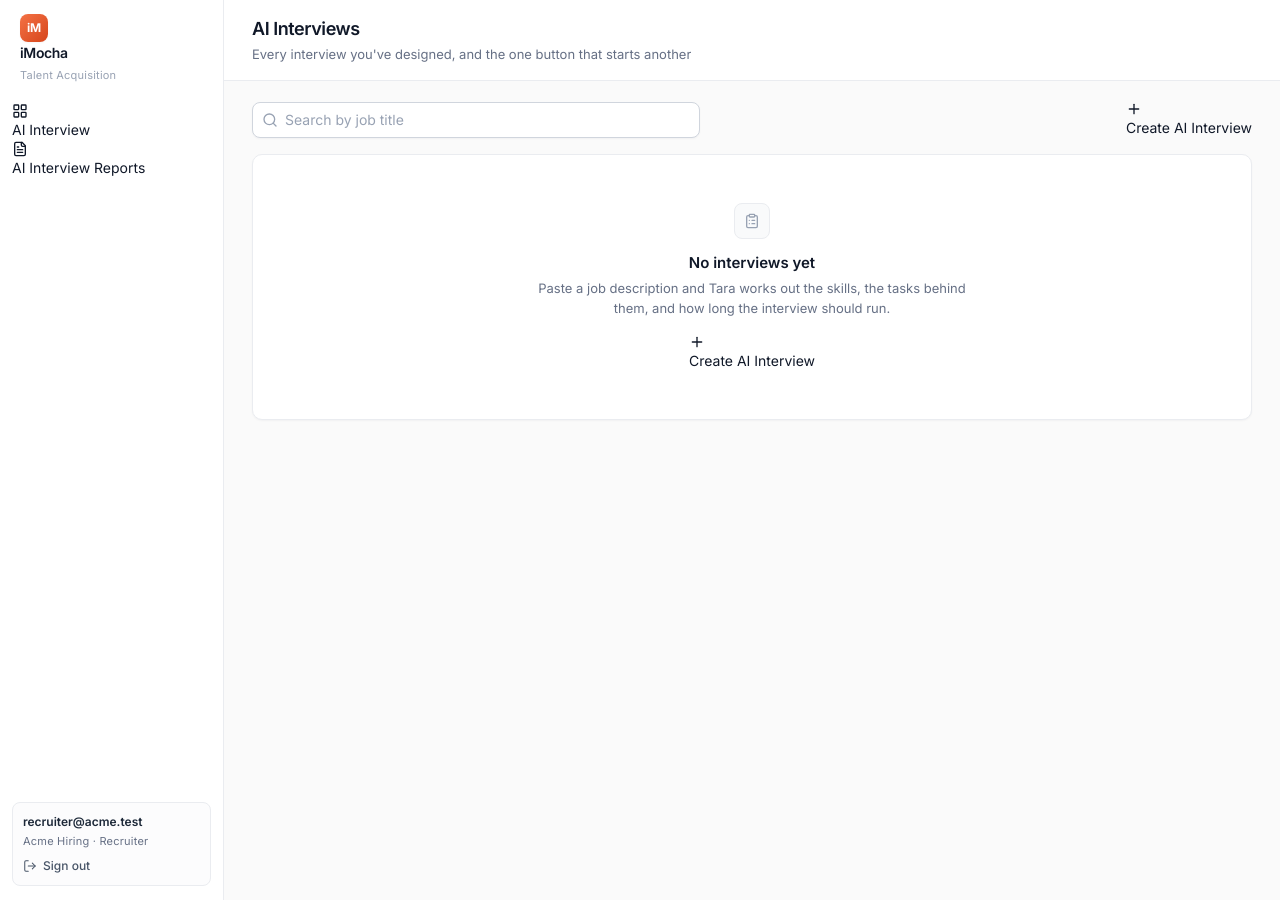
Test: the console's session gate › signs out through the server, not by forgetting locally
This screenshot has width=1280, height=900.
Expected: the text "recruiter@acme.test" is shown, [23, 814, 142, 829]
What coordinates should you click on to do the following:
click the button "Sign out"
I would click on:
 (57, 866)
Its box is [23, 857, 90, 875].
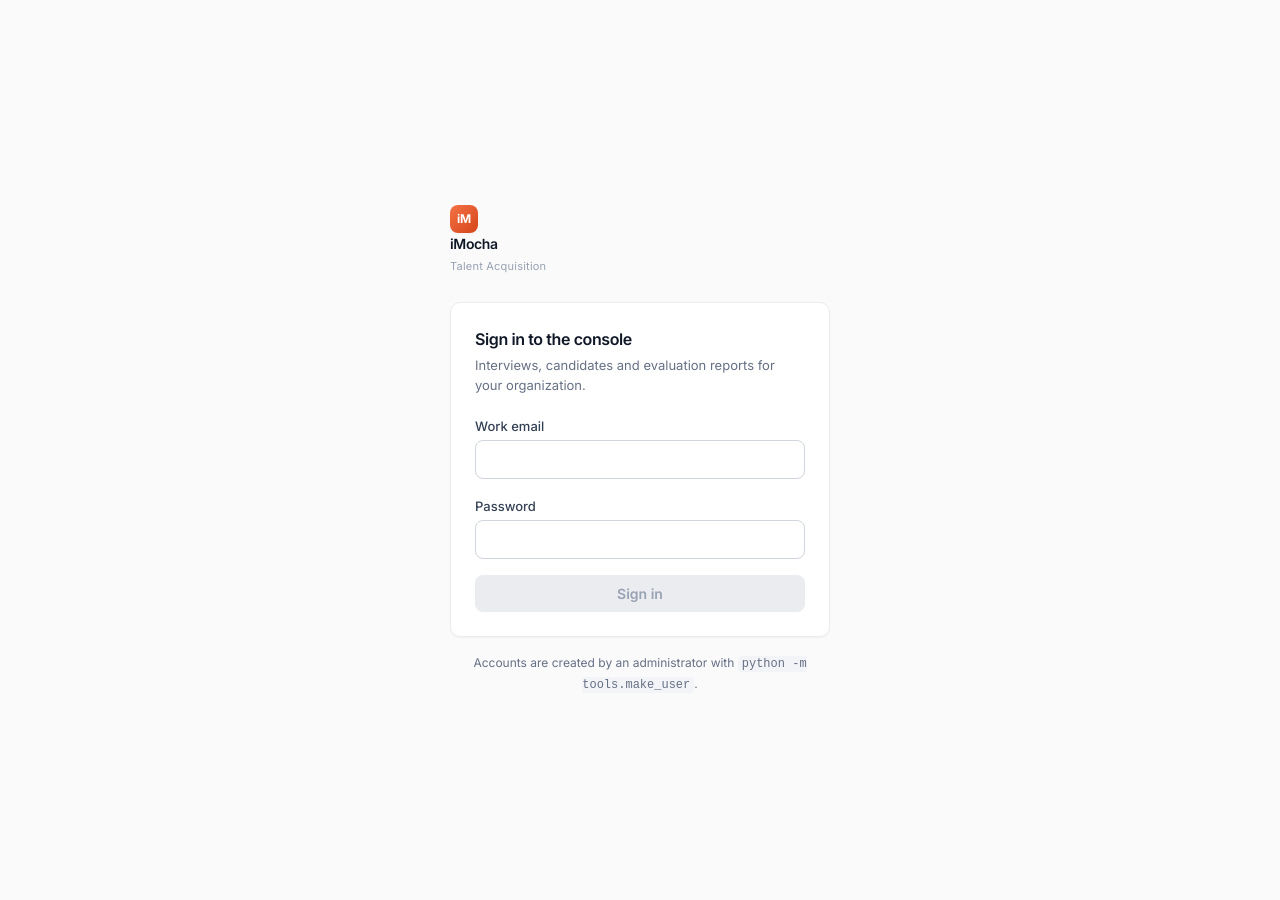
Expected: the field labelled "Work email" is shown, [475, 440, 805, 478]
